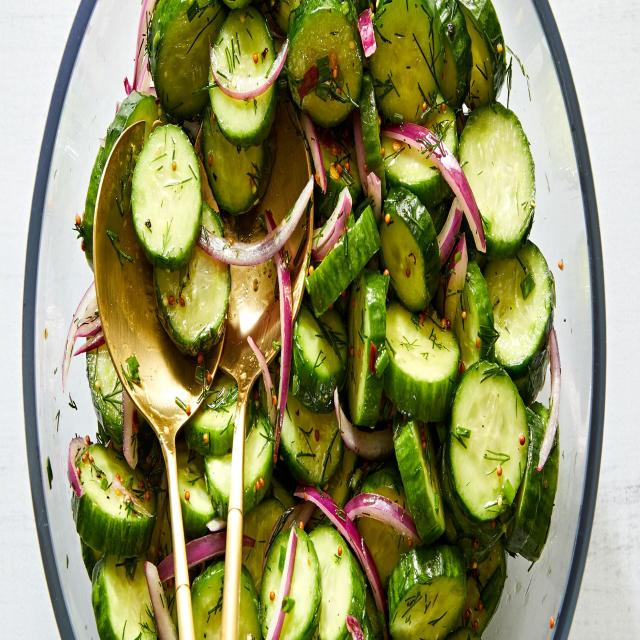Pickle: (446, 360, 529, 522), (459, 102, 535, 258), (484, 240, 555, 405), (209, 8, 288, 145), (69, 438, 156, 558), (131, 125, 201, 270), (146, 0, 228, 120), (384, 302, 460, 422), (154, 245, 231, 355), (154, 245, 231, 355), (388, 545, 466, 640), (394, 412, 445, 545), (309, 525, 366, 639), (91, 555, 158, 640), (280, 528, 321, 639), (184, 372, 238, 455), (259, 530, 290, 636), (244, 412, 274, 514), (191, 560, 225, 640), (205, 452, 231, 520), (239, 568, 261, 640), (201, 200, 222, 238), (201, 200, 222, 235)
